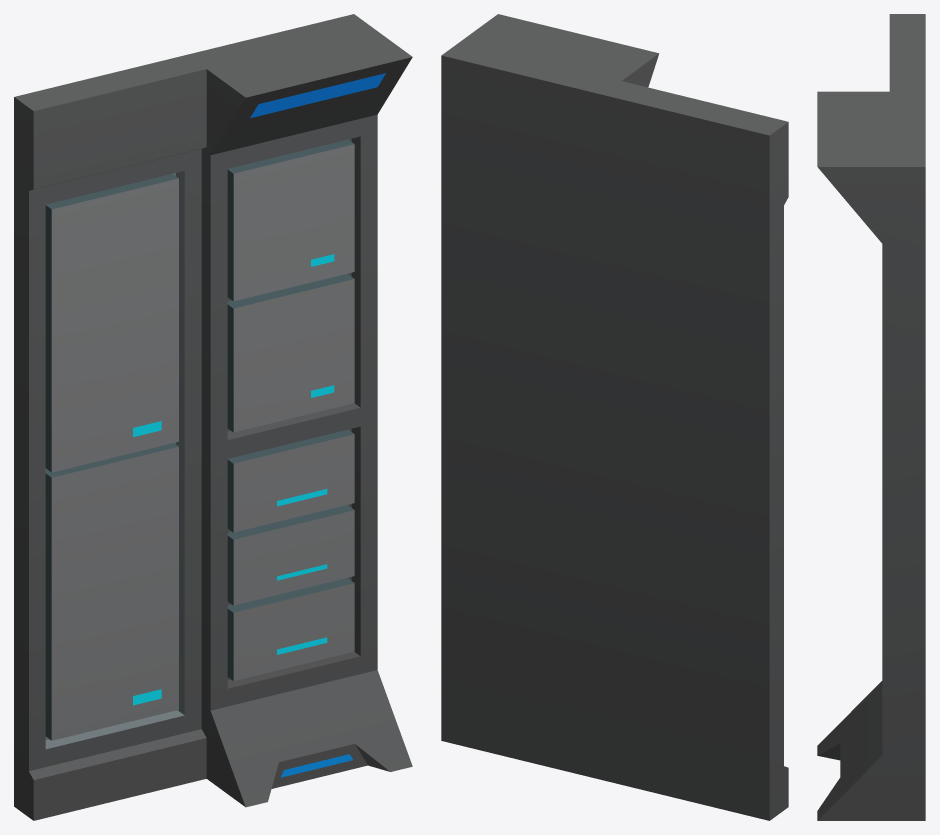
The model's file is Wall_type_B_014.glb.
3 views of the same model, side by side, from view 1: azimuth 30°, elevation 25°; view 2: azimuth 150°, elevation 25°; view 3: azimuth 270°, elevation 25° (orthographic). The views are drawn at different scales.
Parts seen in each view (by area): view 1: Wall_type_B_014; view 2: Wall_type_B_014; view 3: Wall_type_B_014.
Boxes of the visible parts, left/top/right/bottom form: Wall_type_B_014: left=14, top=14, right=412, bottom=820; Wall_type_B_014: left=441, top=14, right=788, bottom=820; Wall_type_B_014: left=817, top=14, right=925, bottom=820.
Bounding box in the file's own units: 2 × 4 × 0.6.
2 materials, 2 textured.
